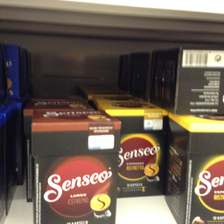coffee: (31, 108, 122, 224), (99, 99, 169, 198), (165, 111, 223, 224)
